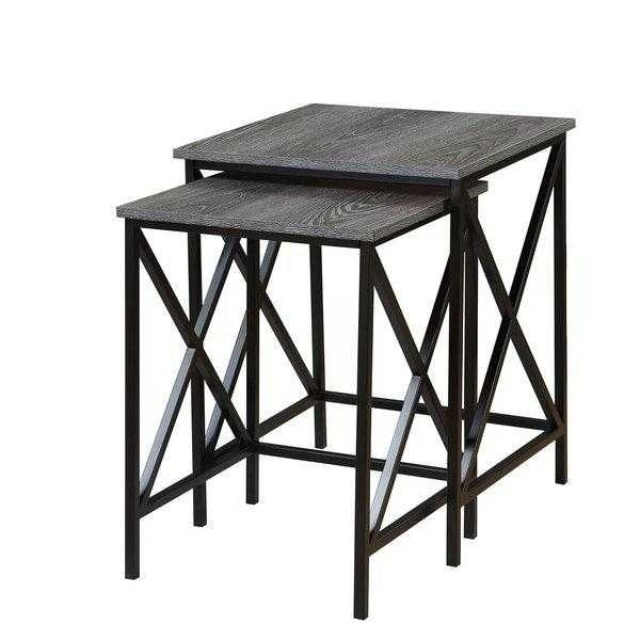obstacle: (117, 103, 574, 618)
